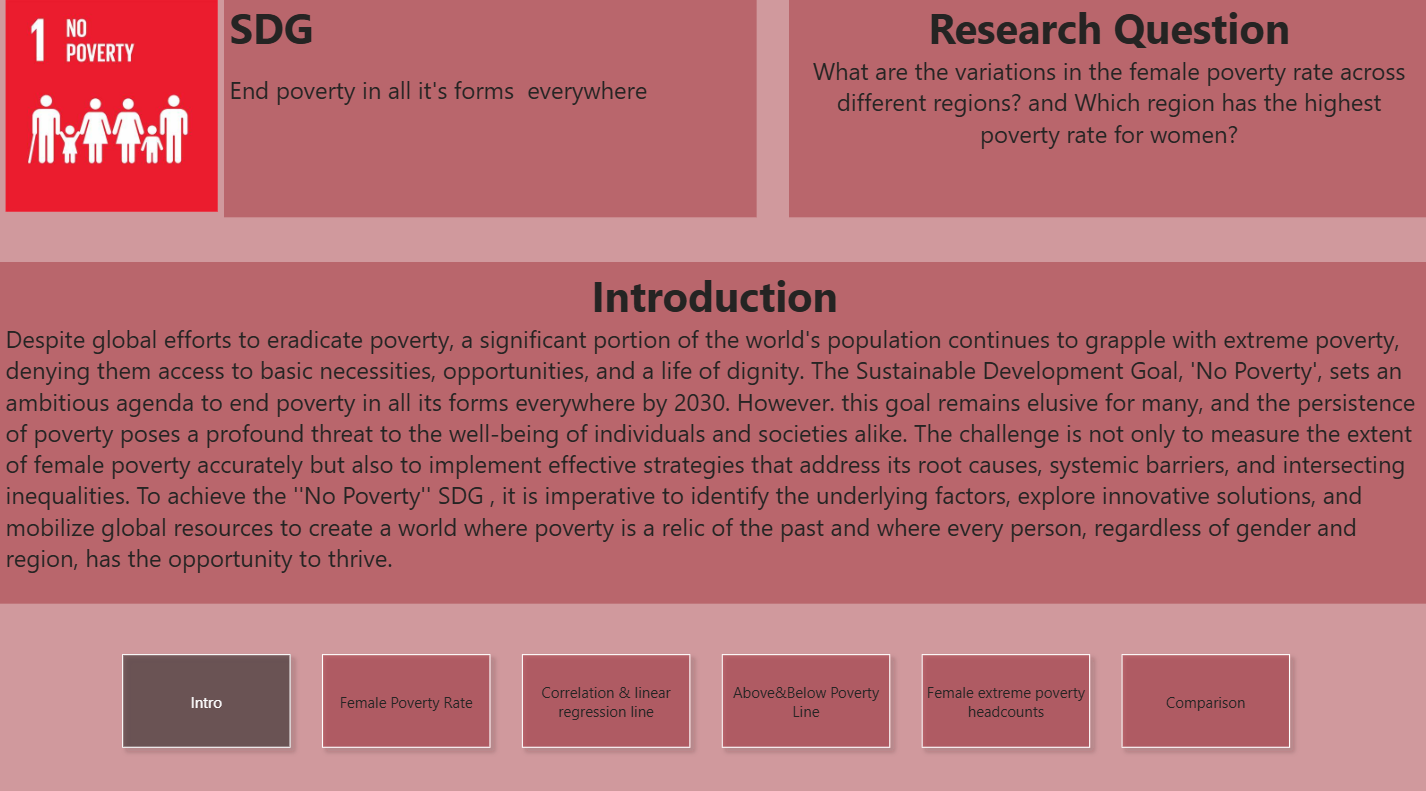

This screenshot's page, from the dashboard's own definition file:
{"tool":"powerbi","page":{"name":"Intro","canvas":[1280,720],"ordinal":0},"visuals":[{"type":"image","box":[0,0,200.5,200.5],"z":0},{"type":"textbox","box":[200.5,0,476.7,200.5],"z":1000},{"type":"textbox","box":[706.6,0,573.3,200.5],"z":2000},{"type":"textbox","box":[0,239.6,1279.9,305.6],"z":3000},{"type":"pageNavigator","box":[100.2,581.9,1064.7,102.7],"z":4000}]}

Visuals, with their boxes in screenshot pixels (x1, y1, x2, y2), scaled from the page's 1280x720 canvas onto the 1426x791 screenshot:
image: crop(0, 0, 223, 220)
textbox: crop(223, 0, 754, 220)
textbox: crop(787, 0, 1425, 220)
textbox: crop(0, 263, 1425, 599)
pageNavigator: crop(112, 639, 1298, 752)
